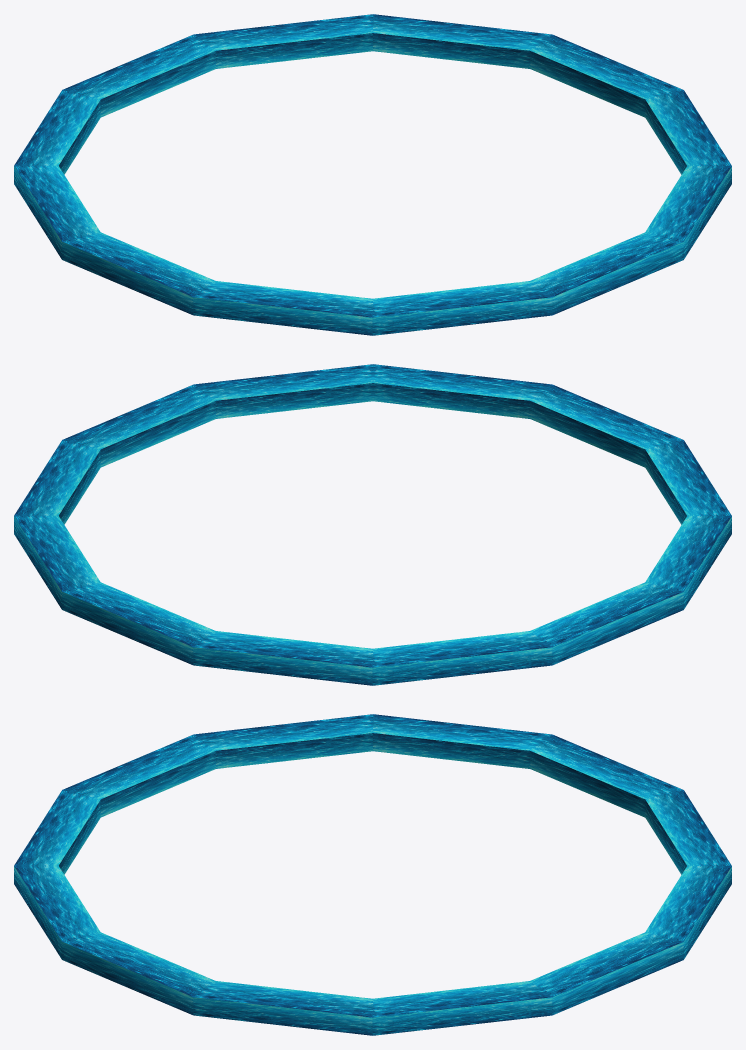
Rendered from mm9_deco_lichengine_outerring.glb.
3 views of the same model, one above another, from view 1: azimuth 30°, elevation 25°; view 2: azimuth 150°, elevation 25°; view 3: azimuth 270°, elevation 25° (orthographic).
Visible parts, largest first — view 1: Lichengine; view 2: Lichengine; view 3: Lichengine.
Part boxes in pixels (<box>): Lichengine: <box>14,14,731,335</box>; Lichengine: <box>14,364,731,685</box>; Lichengine: <box>14,714,731,1035</box>.
Bounding box in the file's own units: 2.14 × 0.06 × 2.14.
1 material, 1 textured.
